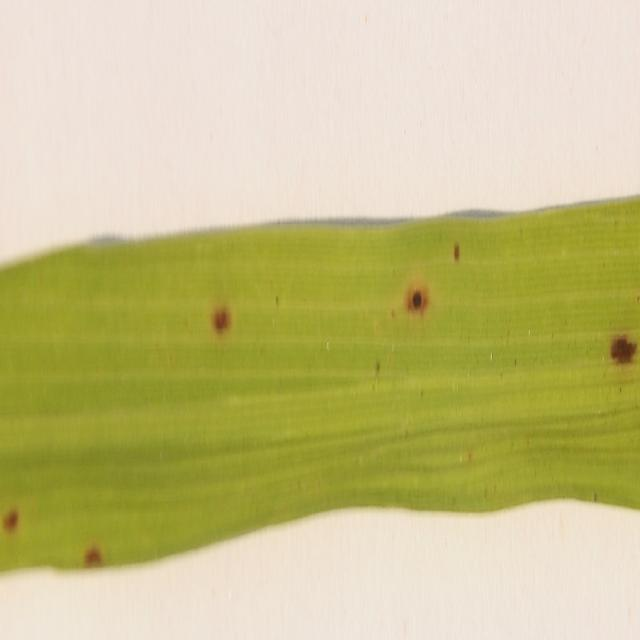Unhealthy: (205, 301, 237, 346), (402, 277, 433, 322), (609, 331, 639, 373), (0, 494, 22, 541), (81, 541, 104, 569), (453, 241, 460, 263)
